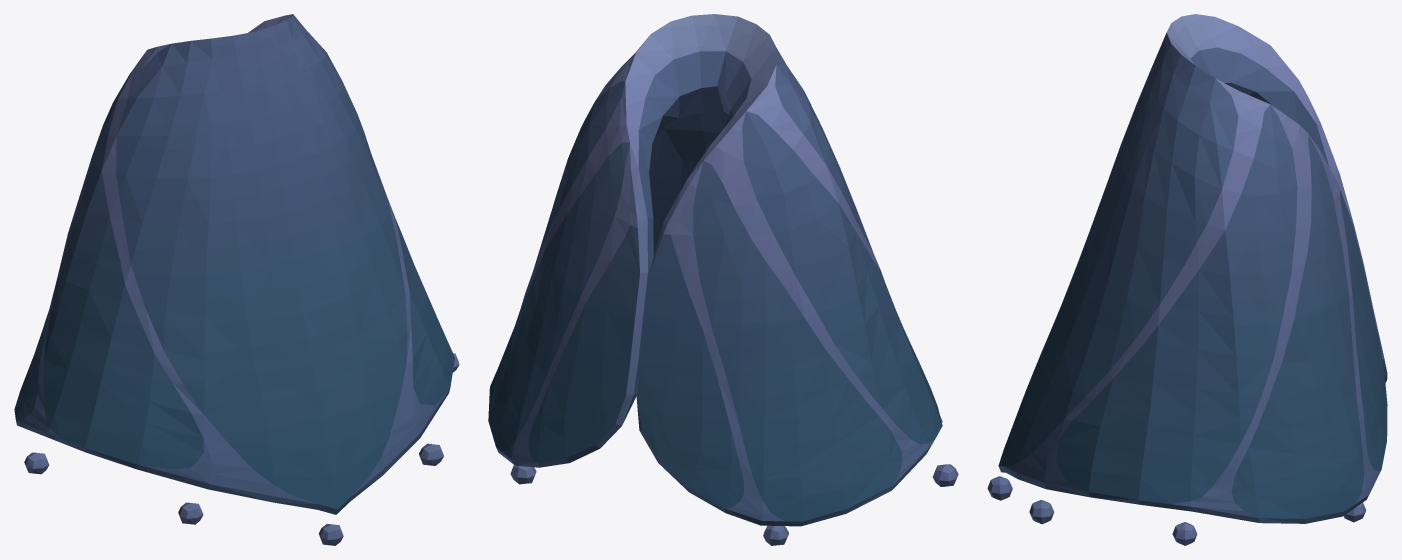
The model's file is CharSkyKid_Wing_AP03Biolum_01.glb.
3 renders of one model, left to right at view 1: azimuth 30°, elevation 25°; view 2: azimuth 150°, elevation 25°; view 3: azimuth 270°, elevation 25°, orthographic. The views are drawn at different scales.
Parts seen in each view (by area): view 1: CharSkyKid_Wing_AP03Biolum_01; view 2: CharSkyKid_Wing_AP03Biolum_01; view 3: CharSkyKid_Wing_AP03Biolum_01.
Boxes of the visible parts, <box> form: CharSkyKid_Wing_AP03Biolum_01: <box>14,14,459,545</box>; CharSkyKid_Wing_AP03Biolum_01: <box>488,14,958,545</box>; CharSkyKid_Wing_AP03Biolum_01: <box>987,14,1387,545</box>.
Bounding box in the file's own units: 6.94 × 6.95 × 5.37.
1 material, 1 textured.
